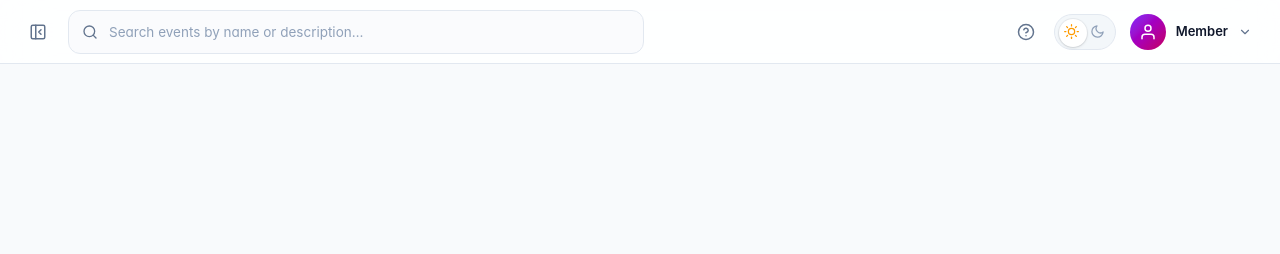
the account menu › never throws on a missing name, and shows a neutral placeholder
Click the button with aria-label "Account menu".
click(1193, 32)  # box [1126,10,1260,54]
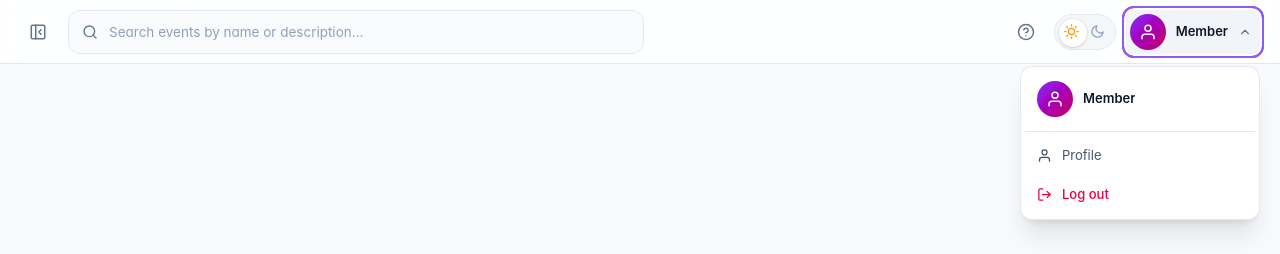
Now the menu shows "Member", box [1083,90,1135,106]
